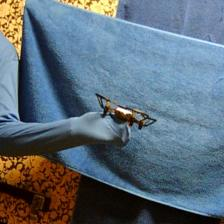drone: (95, 92, 159, 135)
